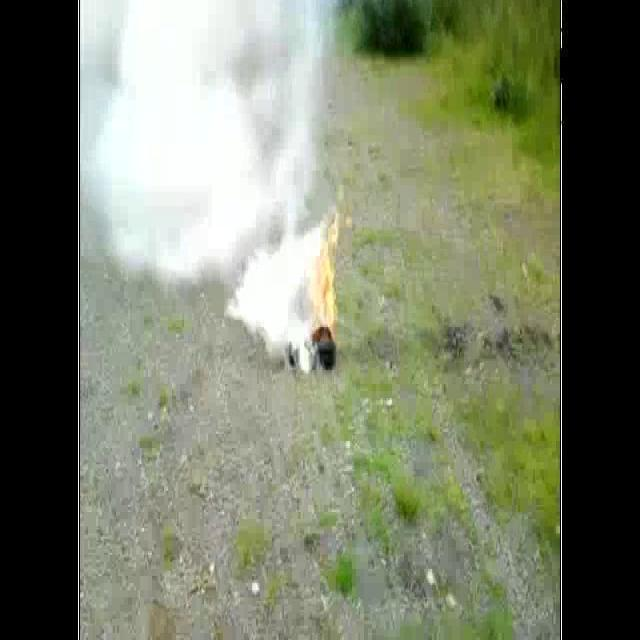Fire: (312, 212, 350, 334)
Smoke: (81, 0, 358, 376)
